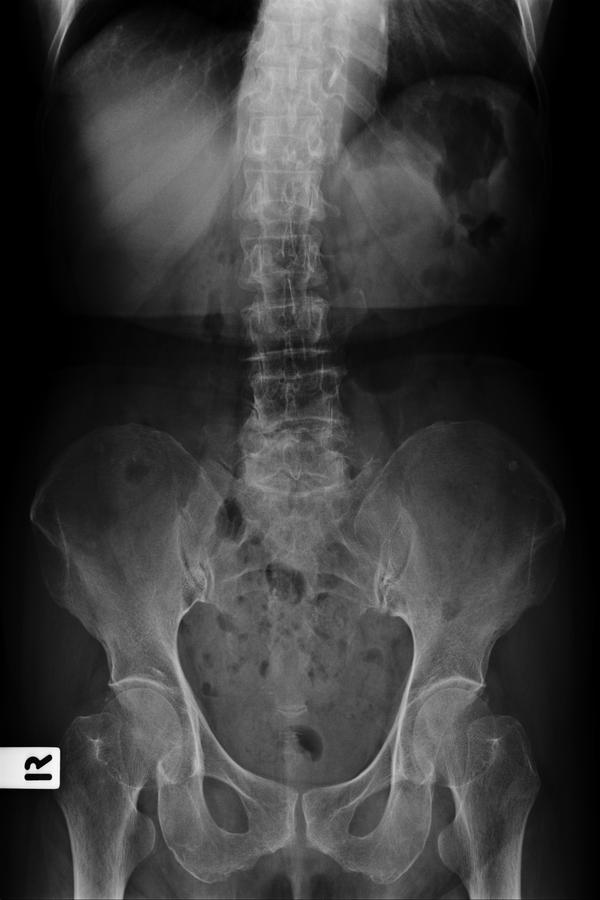lumbar scoliosis: (230, 68, 368, 529)
